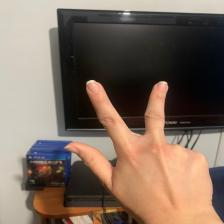three: (66, 78, 217, 205)
